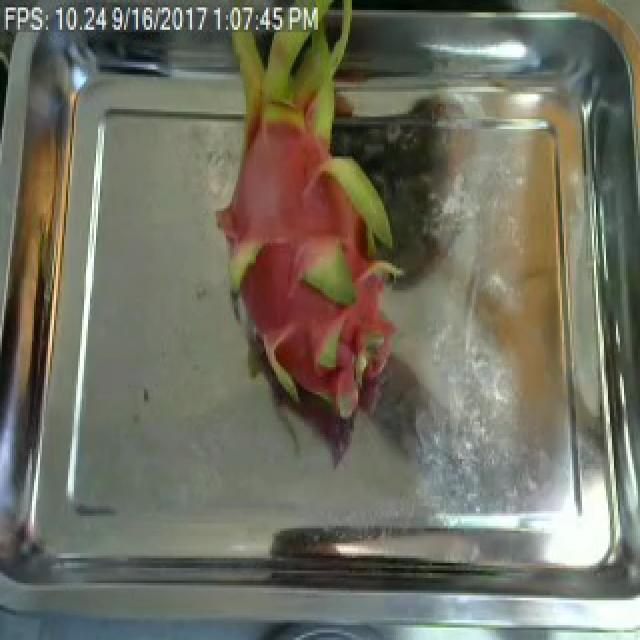fruit: (198, 10, 424, 439)
